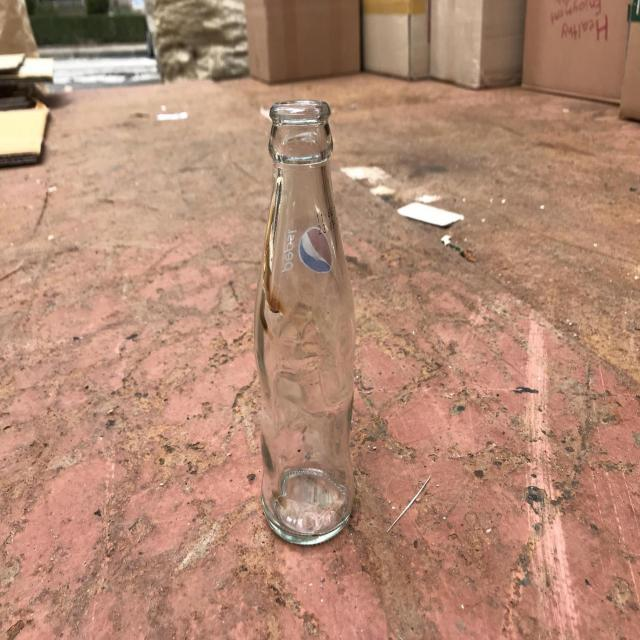glass: (255, 100, 355, 544)
